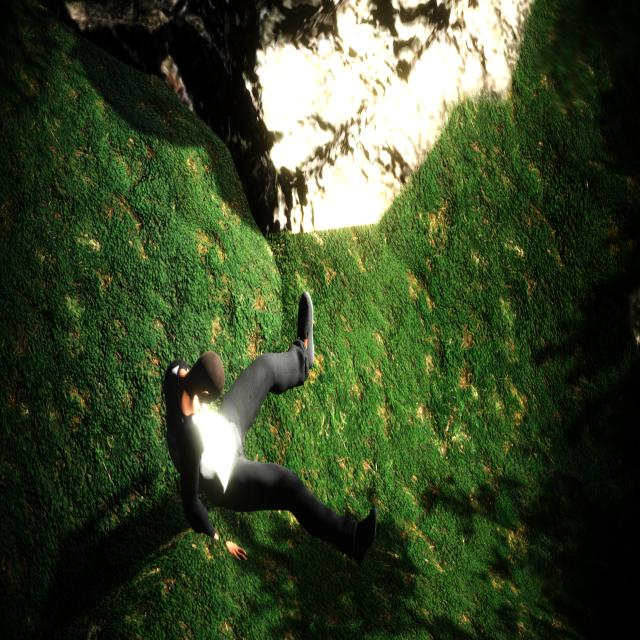Human: (152, 284, 378, 570)
